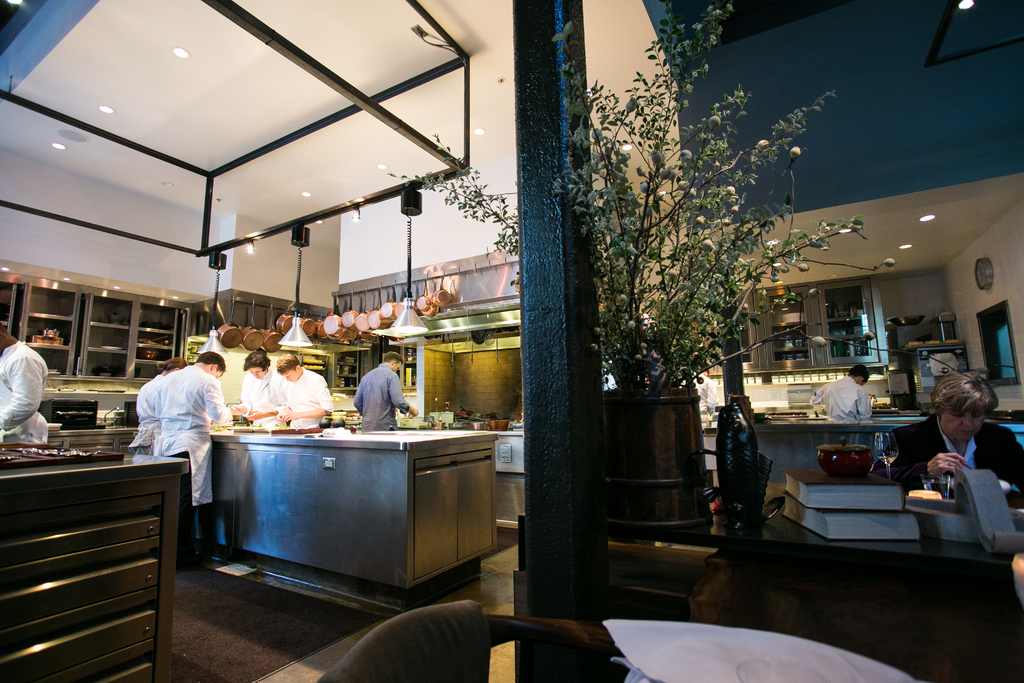Cabinetry: (3, 474, 175, 682), (695, 356, 908, 436), (219, 290, 371, 395), (198, 333, 321, 424), (24, 286, 89, 379), (751, 290, 819, 369), (80, 297, 145, 378), (817, 281, 876, 369), (134, 299, 190, 374), (700, 290, 749, 374), (378, 339, 438, 407), (307, 340, 379, 394), (909, 339, 968, 403), (358, 342, 419, 396), (22, 275, 85, 324), (0, 274, 31, 338), (90, 295, 135, 331), (84, 322, 132, 355), (136, 295, 177, 331), (26, 345, 74, 375), (22, 316, 74, 343), (79, 350, 130, 376), (0, 279, 17, 334), (127, 347, 173, 365), (132, 331, 173, 347), (127, 365, 163, 381)
